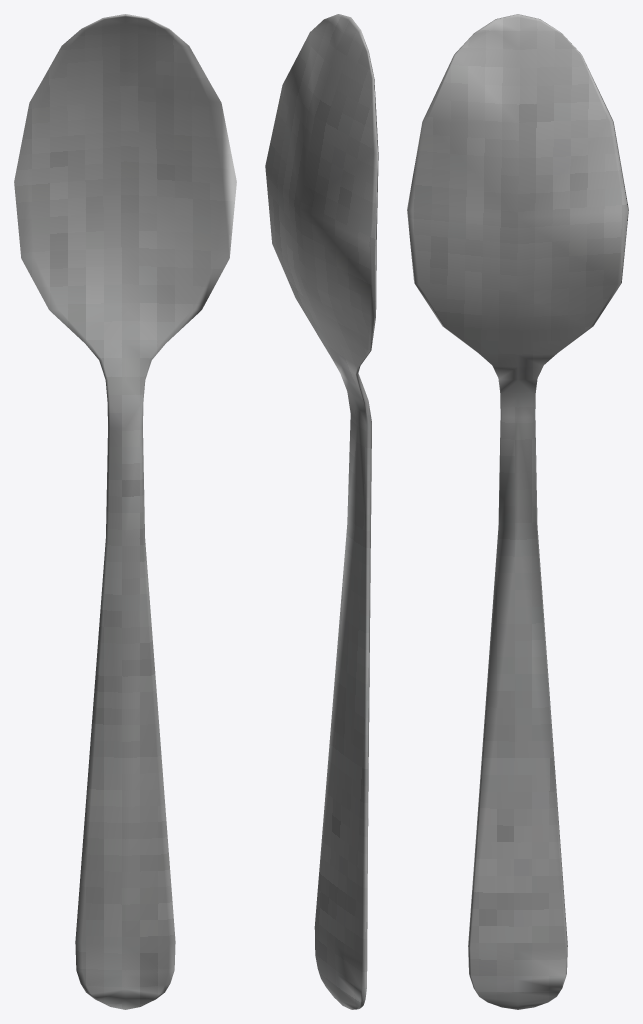
The model's file is spoon.obj.
The picture shows the model from 3 angles, left to right: view 1: azimuth 90°, elevation 25°; view 2: azimuth 210°, elevation 25°; view 3: azimuth 270°, elevation 25°; orthographic projection.
Parts seen in each view (by area): view 1: spoon; view 2: spoon; view 3: spoon.
Boxes of the visible parts, <box> form: spoon: <box>14,14,236,1009</box>; spoon: <box>265,14,378,1009</box>; spoon: <box>407,14,628,1009</box>.
Size of the model in its own units: 0.0214 by 0.3026 by 0.0613.
